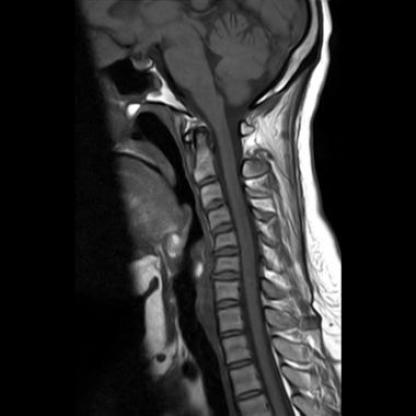Disc Bulgerotation: (212, 267, 243, 284), (212, 245, 241, 260), (209, 222, 238, 236)
